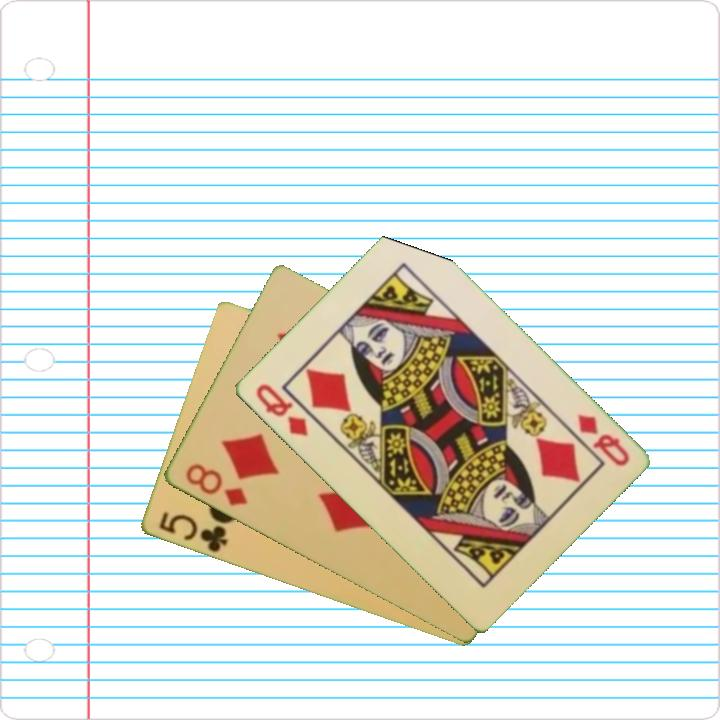5c: (154, 508, 230, 556)
8d: (181, 460, 250, 510)
Qd: (251, 380, 311, 440), (572, 410, 632, 470)
